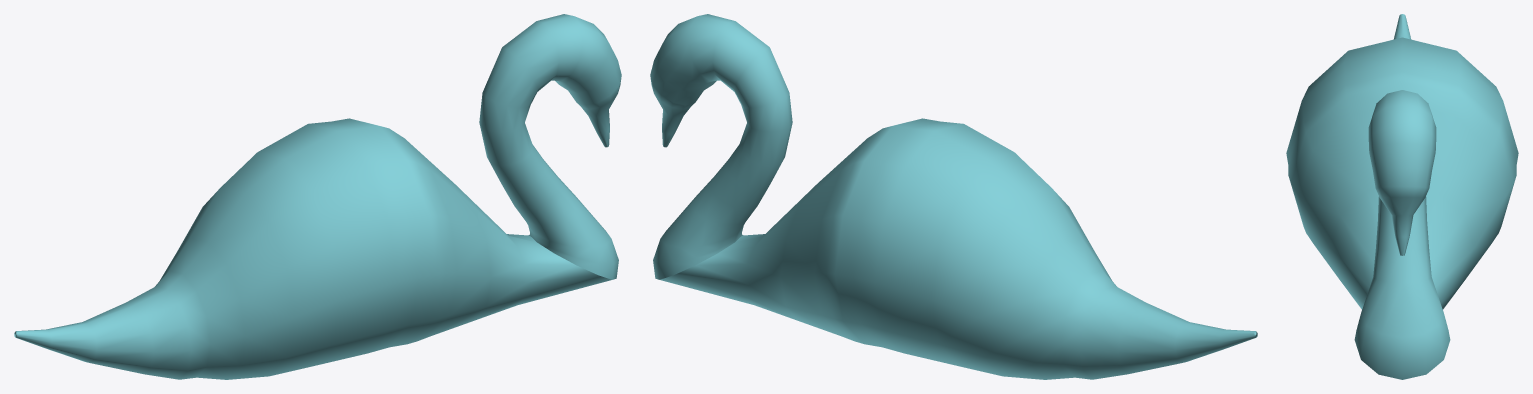
Rendered from swan.obj.
3 views of the same model, side by side, from view 1: azimuth 30°, elevation 25°; view 2: azimuth 150°, elevation 25°; view 3: azimuth 270°, elevation 25° (orthographic). The views are drawn at different scales.
Visible parts, largest first — view 1: pCylinder28; view 2: pCylinder28; view 3: pCylinder28.
Boxes of the visible parts, box(x1,y1,x2,y2) form: pCylinder28: box(14, 14, 621, 379); pCylinder28: box(650, 14, 1257, 379); pCylinder28: box(1286, 14, 1518, 379).
Size of the model in its own units: 8.22 by 3.58 by 2.81.
Materials: 1 (1 with a texture image).
